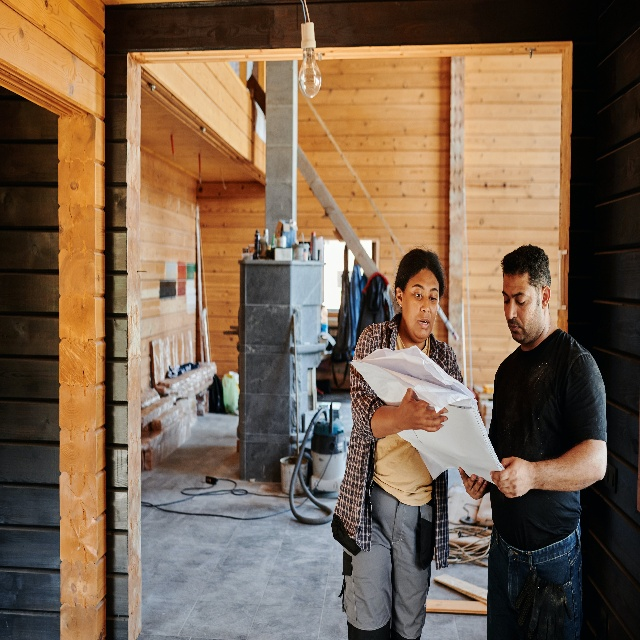Guantes: (517, 569, 568, 632)
Sin_guantes: (398, 384, 446, 434), (489, 456, 525, 500), (458, 466, 486, 500)
